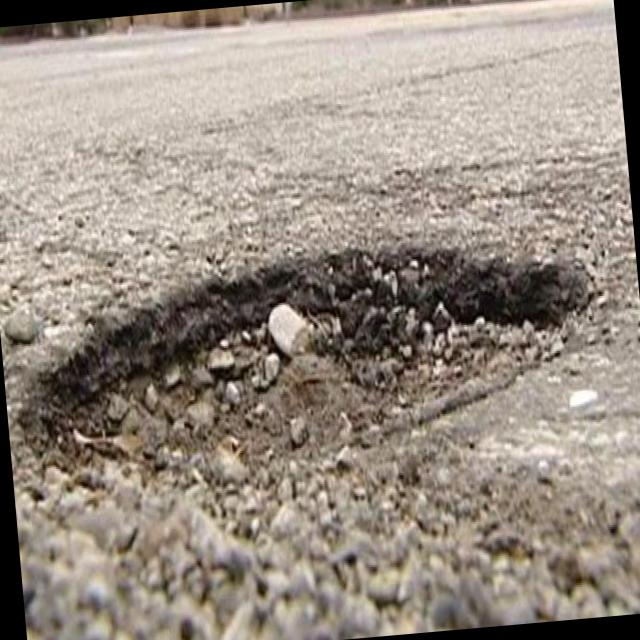Potholes: (0, 221, 624, 546)
